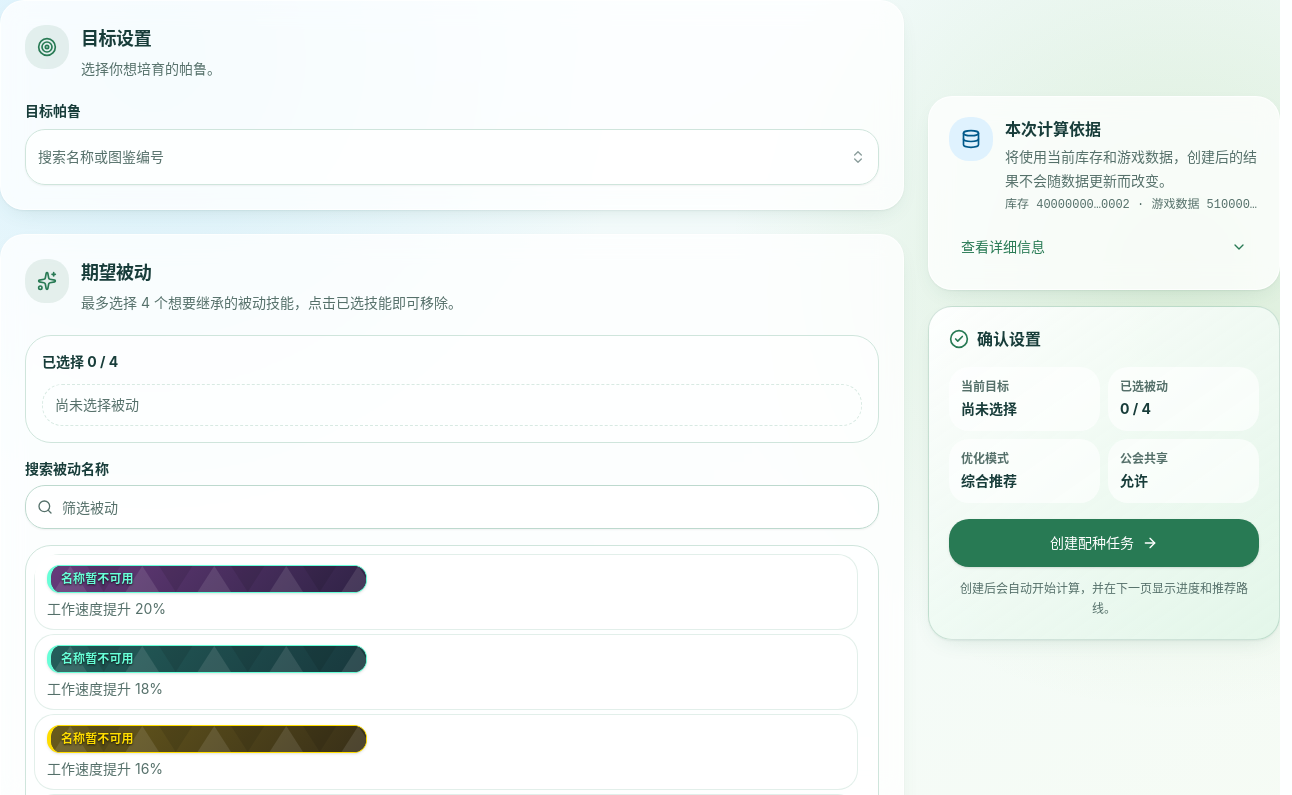
Test: Phase 6 breeder form › does not match passive skills by internal IDs
In the search field labelled "搜索被动": [452, 507] box [25,485,879,529], type "test_passive_a"
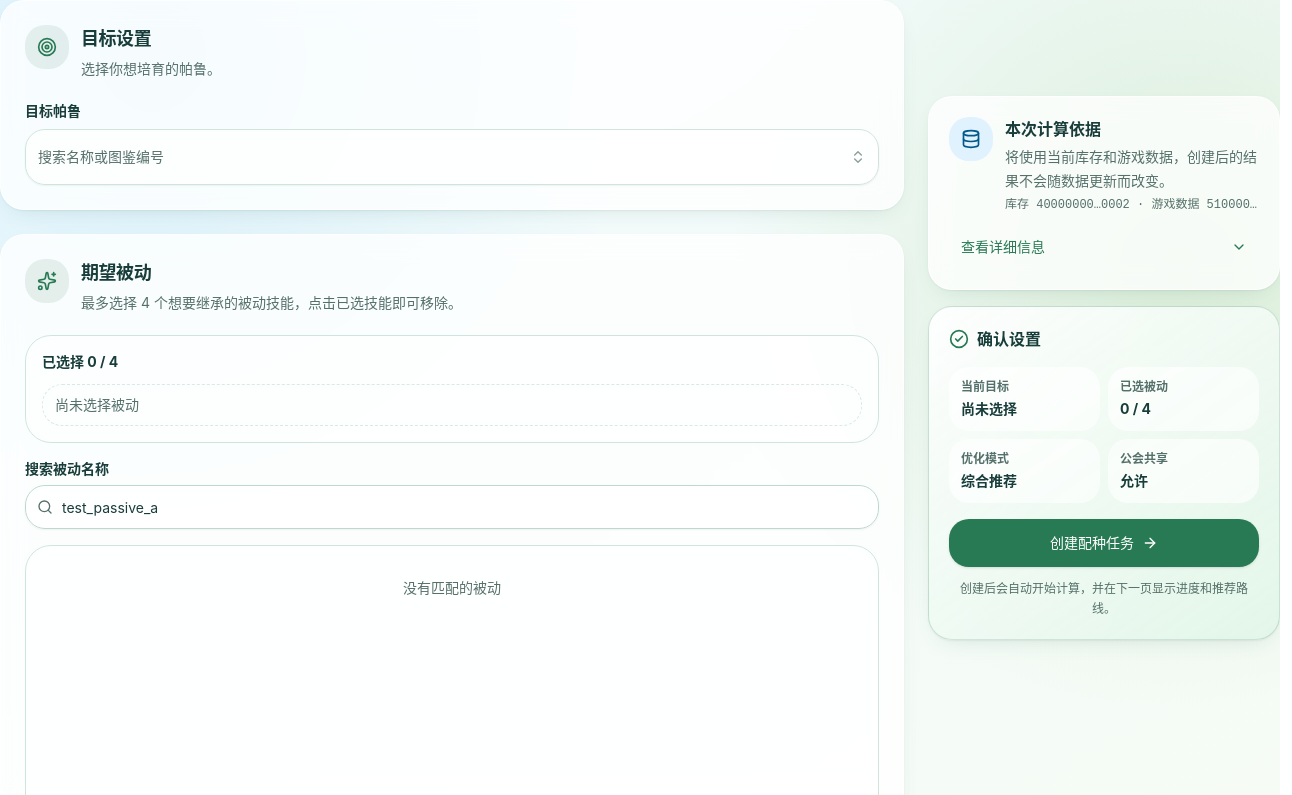
Now the text "没有匹配的被动" is shown, box [403,579,501,596]
